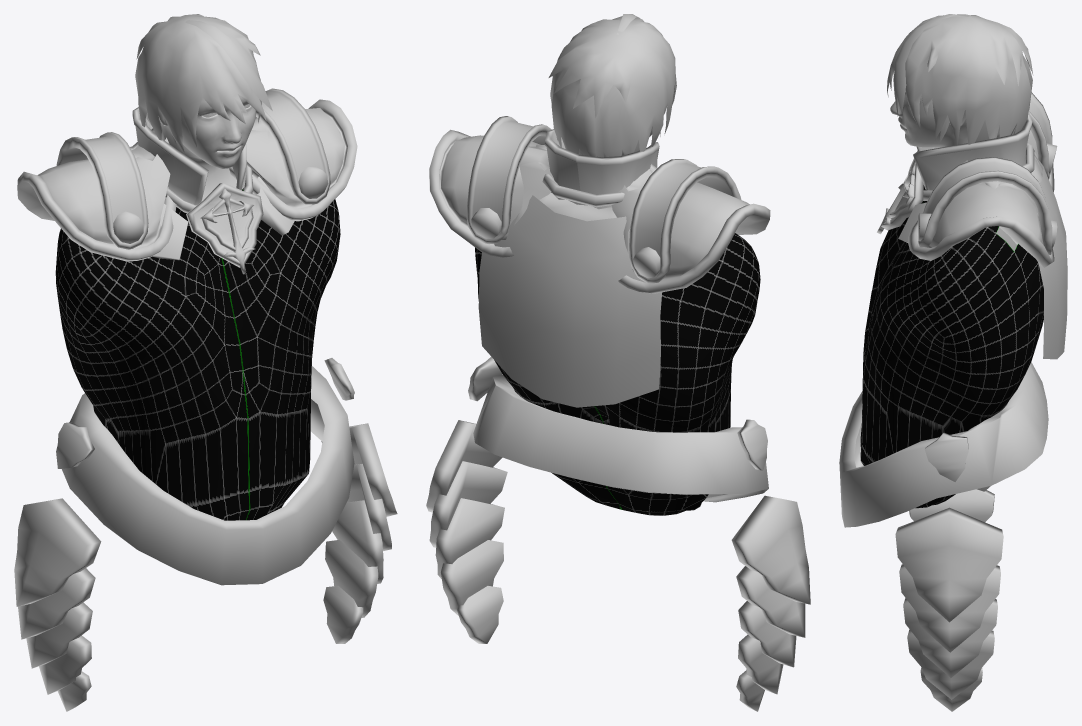
The model's file is body.fbx.
3 renders of one model, left to right at view 1: azimuth 30°, elevation 25°; view 2: azimuth 150°, elevation 25°; view 3: azimuth 270°, elevation 25°, orthographic. The views are drawn at different scales.
Visible parts, largest first — view 1: MAW138_003, Object007, Object006, Object009, Object003, Object002, Object001, Object008, Object004, Object010; view 2: Object008, Object007, MAW138_003, Object006, Object009, Object003, Object002, Object001, Object004, Maria_J_J_Ong; view 3: MAW138_003, Object007, Object009, Object006, Object001, Object003, Object008, Object004, Object010.
Part boxes in pixels (x1,y1,x2,y2): MAW138_003: (55,189,340,520); Object007: (14,358,397,711); Object006: (62,366,354,585); Object009: (135,14,272,154); Object003: (56,88,330,249); Object002: (17,125,176,261); Object001: (229,99,357,221); Object008: (165,165,263,274); Object004: (132,107,294,260); Object010: (157,94,255,205); Object008: (478,174,662,407); Object007: (426,356,810,711); MAW138_003: (475,233,760,515); Object006: (473,374,768,502); Object009: (548,14,676,157); Object003: (466,116,741,283); Object002: (611,164,770,293); Object001: (429,129,553,257); Object004: (539,129,659,221); Maria_J_J_Ong: (471,208,660,278); MAW138_003: (860,185,1043,508); Object007: (895,432,1003,711); Object009: (887,14,1033,145); Object006: (839,362,1048,527); Object001: (908,160,1054,267); Object003: (917,92,1052,254); Object008: (877,142,1067,359); Object004: (898,111,1042,242); Object010: (890,90,967,147).
Bounding box in the file's own units: 26.4 × 43.53 × 14.3.
